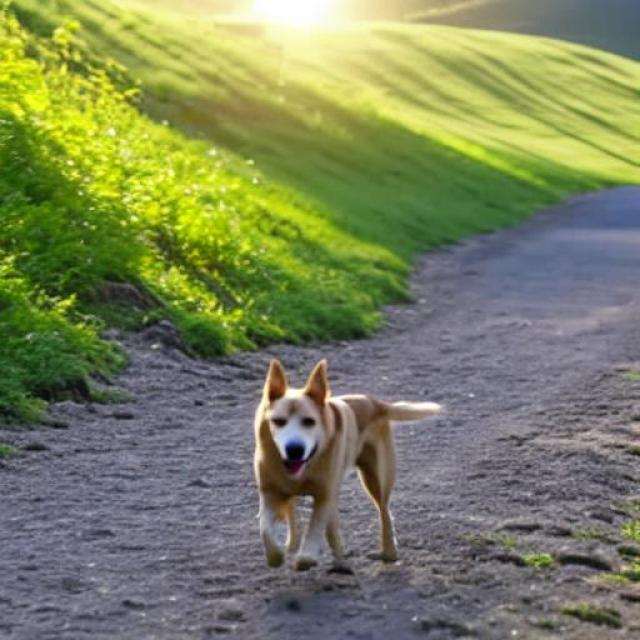Dog: (254, 358, 444, 568)
